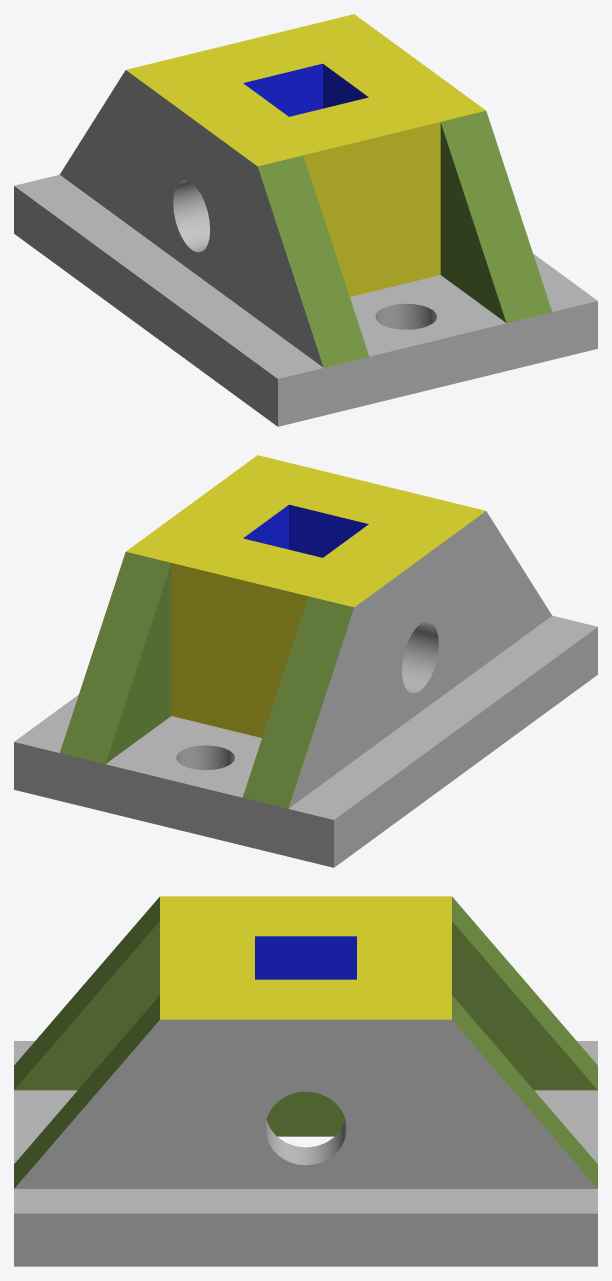
The model's file is SEC1.glb.
The picture shows the model from 3 angles, top to bottom: view 1: azimuth 30°, elevation 25°; view 2: azimuth 150°, elevation 25°; view 3: azimuth 270°, elevation 25°; orthographic projection. The views are drawn at different scales.
Visible parts, largest first — view 1: Solid1; view 2: Solid1; view 3: Solid1.
Boxes of the visible parts, box(x1,y1,x2,y2) form: Solid1: box(14, 14, 597, 426); Solid1: box(14, 455, 597, 867); Solid1: box(14, 896, 597, 1266).
Bounding box in the file's own units: 0.07 × 0.042 × 0.1.
